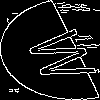W: (24, 25, 100, 84)
